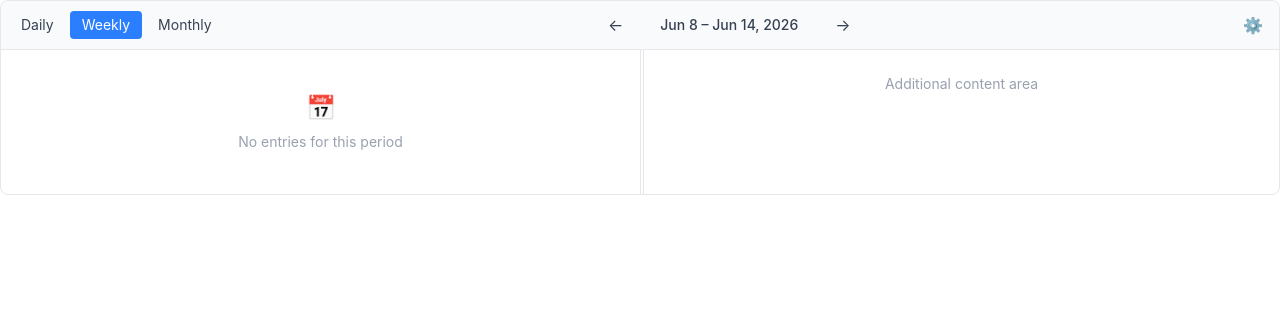
Test: CalendarView › opens settings panel when settings button is clicked
This screenshot has width=1280, height=321.
Click the button named "Calendar settings".
click(1253, 25)  # box x1=1235 y1=9 x2=1271 y2=41
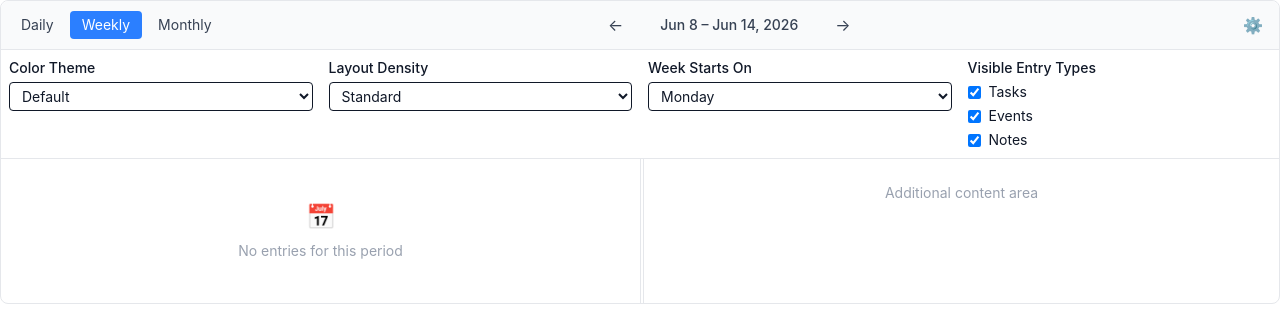
Expected: the element with test id "calendar-settings" is shown, x1=1 y1=50 x2=1279 y2=159
